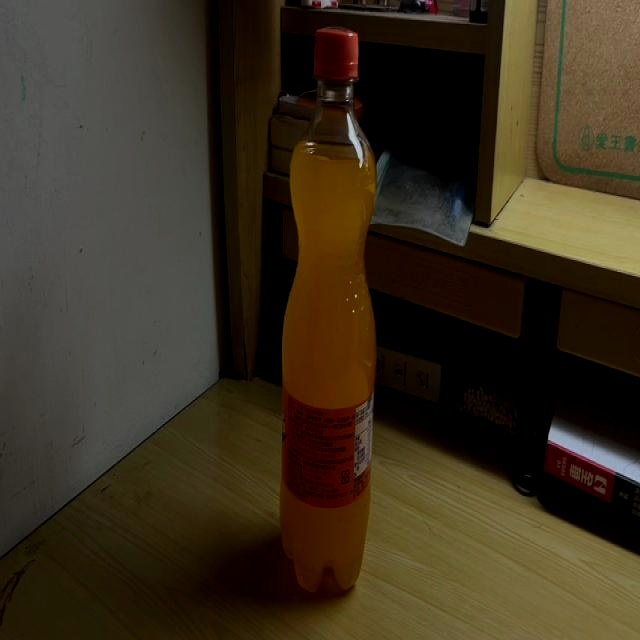Fanta: (279, 26, 378, 600)
